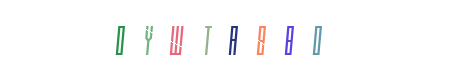8: (190, 0, 270, 80), (193, 0, 273, 80)
A: (186, 0, 266, 80)
O: (80, 0, 160, 80), (249, 0, 329, 80)
T: (185, 0, 265, 80)
W: (172, 0, 252, 80)
Y: (169, 0, 249, 80)
